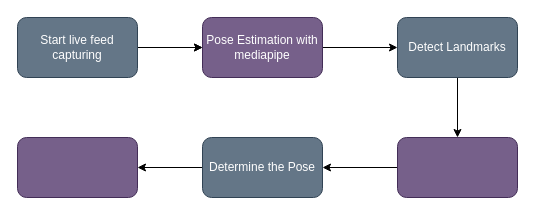
Image size: 535x215. Some labels were removed from this diagram. Here are the shapes that lost their labels. From the top down, the centre of each, then its label:
the point at 77,167: Give the final pose output
the point at 457,167: Map the Landmarks to the body
